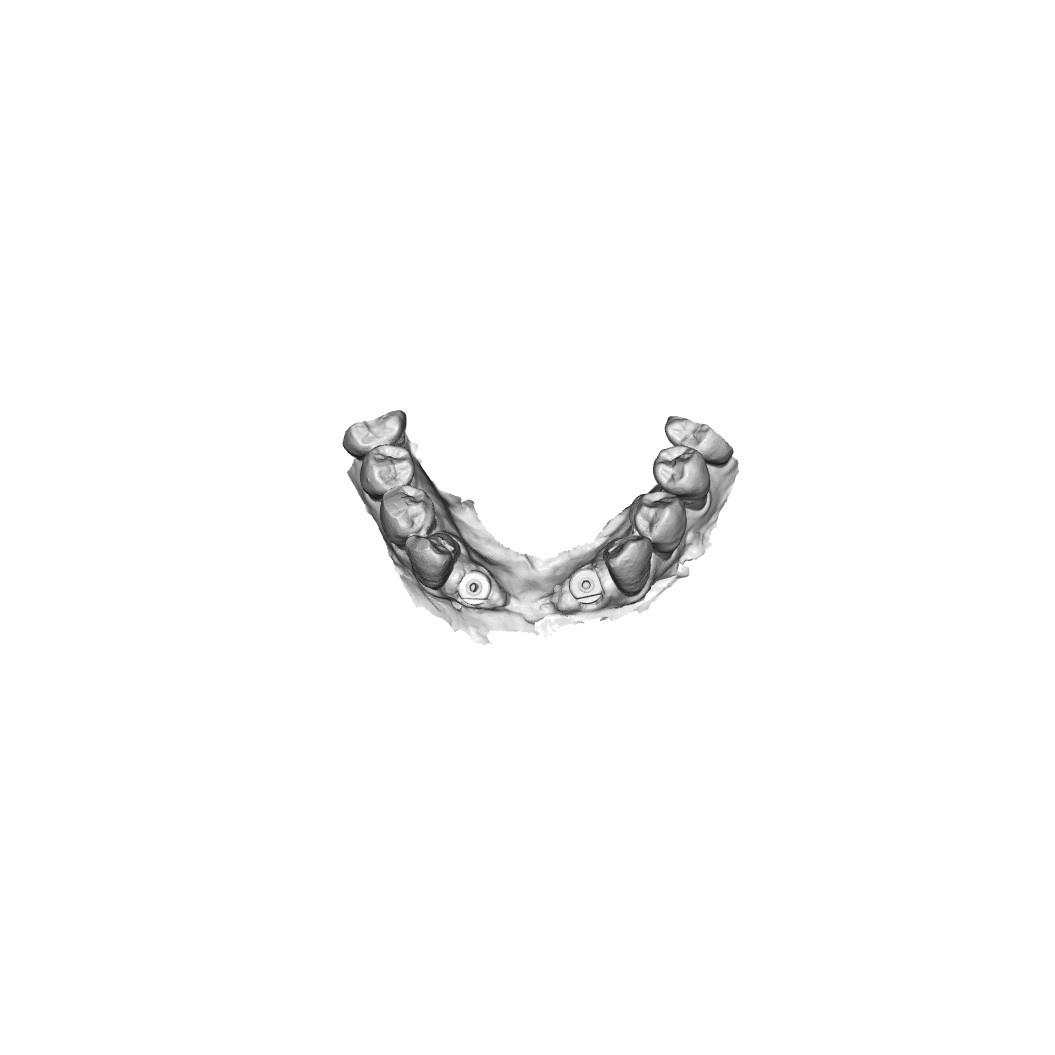canine: (406, 529, 457, 587), (609, 533, 656, 595)
implant: (568, 570, 602, 605), (459, 573, 491, 604)
premolar: (633, 491, 688, 560), (650, 444, 715, 502), (377, 486, 437, 543), (357, 442, 414, 498)
